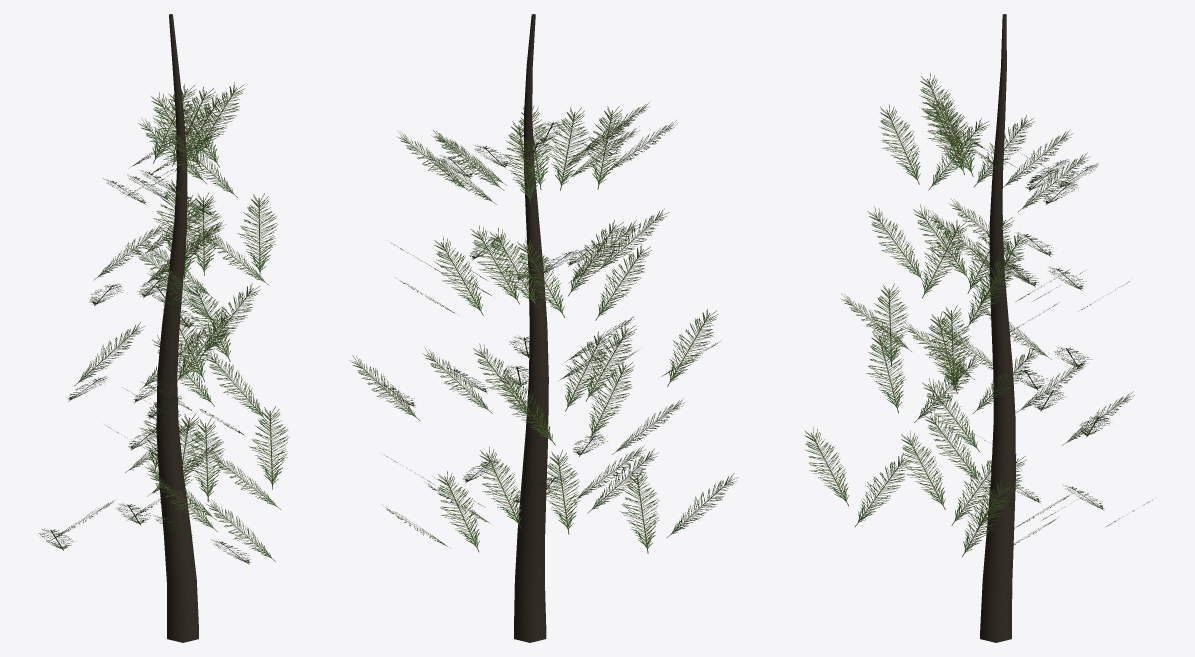
File: Pine_83_LOD2.fbx
3 views of the same model, side by side, from view 1: azimuth 30°, elevation 25°; view 2: azimuth 150°, elevation 25°; view 3: azimuth 270°, elevation 25° (orthographic).
Visible parts, largest first — view 1: Pine_83_LOD2; view 2: Pine_83_LOD2; view 3: Pine_83_LOD2.
Part boxes in pixels (bbox=[...]): Pine_83_LOD2: bbox=[39, 14, 289, 642]; Pine_83_LOD2: bbox=[349, 14, 738, 642]; Pine_83_LOD2: bbox=[804, 14, 1152, 642].
Size of the model in its own units: 546 by 949 by 562.
